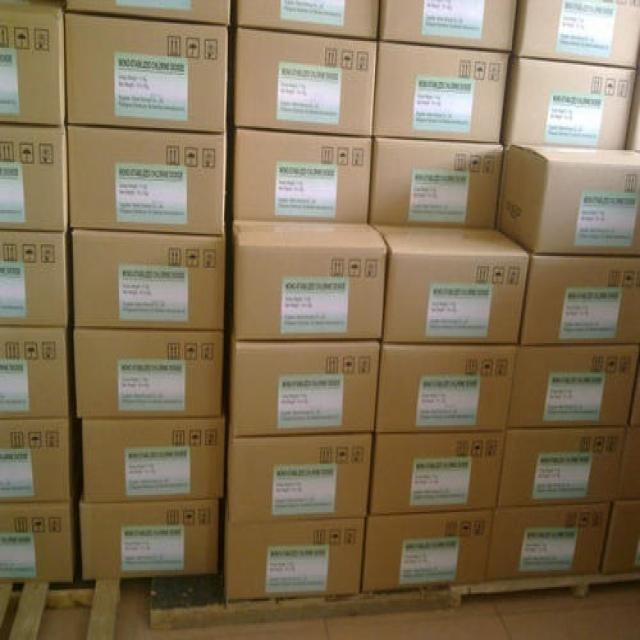box: (65, 12, 228, 133), (371, 224, 531, 345), (232, 218, 388, 340), (67, 123, 228, 236), (499, 140, 640, 258), (234, 27, 378, 137), (72, 230, 225, 329), (229, 340, 381, 435), (224, 432, 375, 524), (374, 43, 509, 142), (73, 328, 224, 415), (232, 130, 372, 220), (375, 345, 517, 433), (502, 56, 637, 147), (82, 416, 224, 502), (78, 492, 220, 575), (369, 430, 504, 517), (370, 138, 503, 225), (224, 521, 367, 601), (507, 343, 640, 427), (361, 509, 492, 592), (518, 256, 640, 345), (498, 427, 628, 507), (488, 500, 614, 580), (513, 0, 640, 68), (0, 2, 67, 126), (0, 123, 69, 230), (0, 488, 78, 582), (380, 0, 517, 53), (0, 416, 78, 502), (0, 232, 69, 328), (0, 326, 70, 420), (236, 0, 381, 41), (65, 0, 230, 26), (603, 497, 640, 573), (617, 427, 640, 500), (626, 70, 640, 152), (628, 357, 640, 427)
